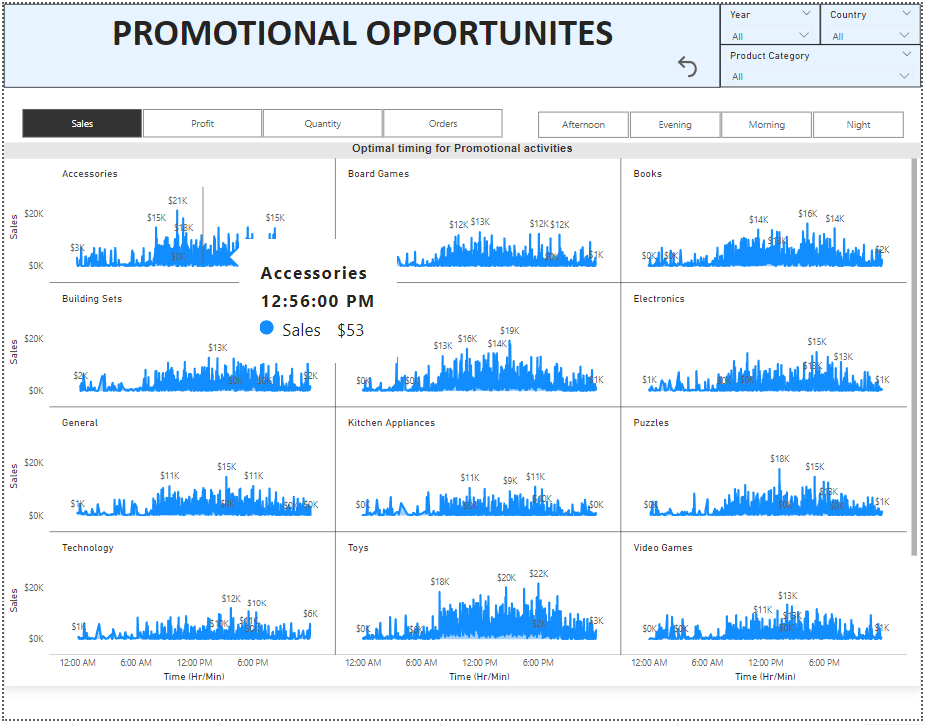

The page's visual inventory and layout, read from the dashboard file:
{"tool":"powerbi","page":{"name":"Product Categories","canvas":[1280,1000],"ordinal":4},"visuals":[{"type":"areaChart","title":"Optimal timing for Promotional activities","fields":{"Y":["Xmas Dataset.Total_Sales"],"Category":["Xmas Dataset.Time (Hr/Min)"],"Rows":["Xmas Dataset.Product Category"]},"box":[0,193.3,1280,761.7],"z":0},{"type":"slicer","fields":{"Values":["Metric Selection.Metric Selection"]},"box":[0,140,720,53.3],"z":1000},{"type":"textbox","box":[0,0,1000,116.7],"z":2000},{"type":"slicer","fields":{"Values":["Xmas Dataset.Date.Variation.Date Hierarchy.Year"]},"box":[1000,0,140,56.7],"z":3000},{"type":"slicer","fields":{"Values":["Xmas Dataset.Country"]},"box":[1140,0,140,56.7],"z":4000},{"type":"slicer","fields":{"Values":["Xmas Dataset.Product Category"]},"box":[1000,56.7,280,60],"z":5000},{"type":"actionButton","box":[935,66.7,65,40],"z":6000},{"type":"slicer","fields":{"Values":["Xmas Dataset.Span"]},"box":[720,143.3,560,50],"z":7000}]}

Visuals, with their boxes in screenshot pixels (x1, y1, x2, y2), scaled from the page's 1280x1000 canvas onto the 925x725 screenshot:
"Optimal timing for Promotional activities" areaChart: box=[0, 140, 924, 692]
slicer - Metric Selection.Metric Selection: box=[0, 102, 520, 140]
textbox: box=[0, 0, 723, 85]
slicer - Xmas Dataset.Date.Variation.Date Hierarchy.Year: box=[723, 0, 824, 41]
slicer - Xmas Dataset.Country: box=[824, 0, 924, 41]
slicer - Xmas Dataset.Product Category: box=[723, 41, 924, 85]
actionButton: box=[676, 48, 723, 77]
slicer - Xmas Dataset.Span: box=[520, 104, 924, 140]
